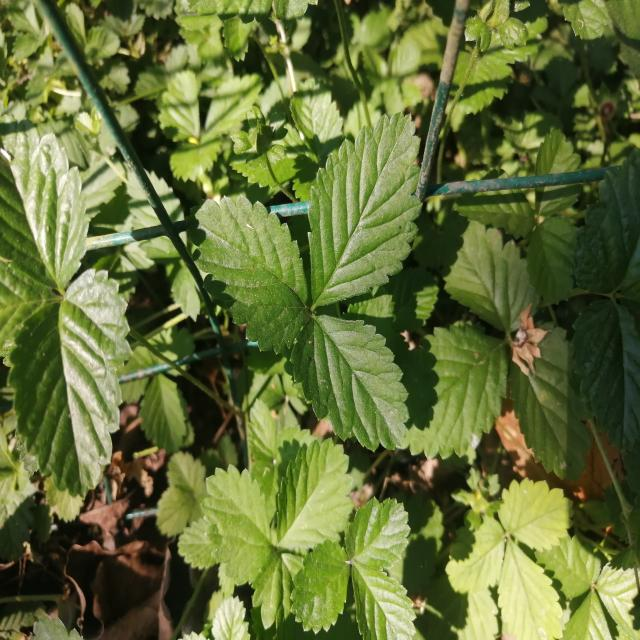Mock_strawberry: (188, 115, 452, 427), (0, 150, 143, 487), (189, 447, 420, 635)
